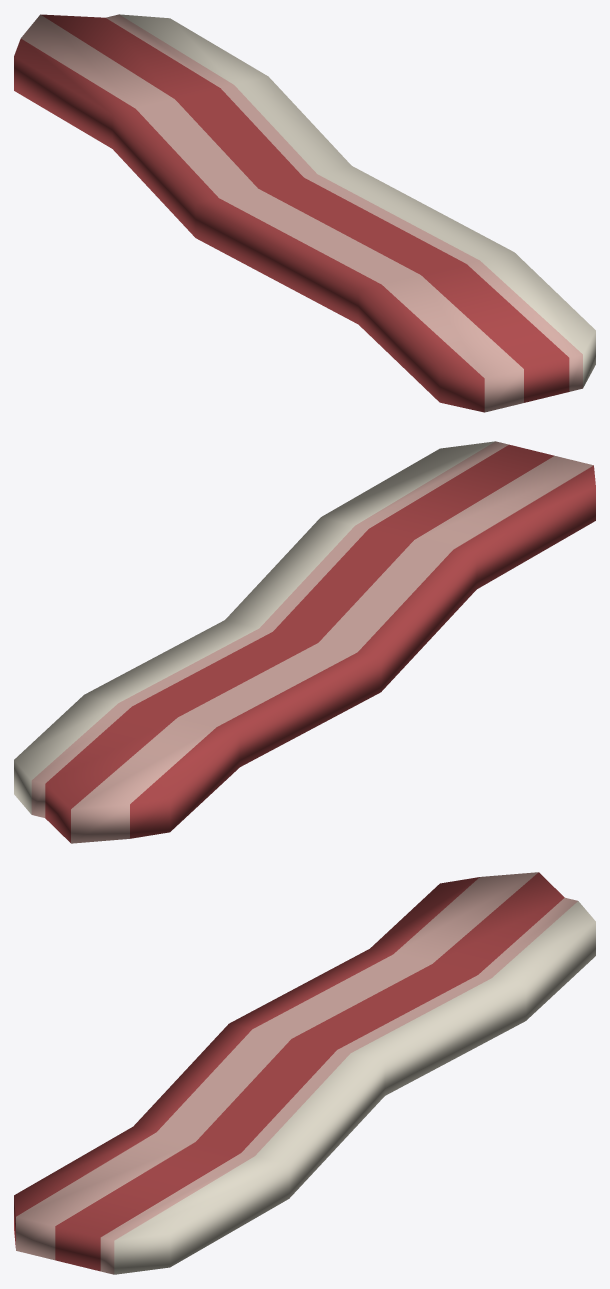
File: Food-Bacon_01.fbx
The picture shows the model from 3 angles, top to bottom: view 1: azimuth 30°, elevation 25°; view 2: azimuth 150°, elevation 25°; view 3: azimuth 330°, elevation 25°; orthographic projection.
Visible parts, largest first — view 1: Food-Bacon_01; view 2: Food-Bacon_01; view 3: Food-Bacon_01.
Part boxes in pixels (x1,y1,x2,y2): Food-Bacon_01: (14,14,595,412); Food-Bacon_01: (14,441,595,843); Food-Bacon_01: (14,872,595,1274).
Bounding box in the file's own units: 0.0488 × 0.00847 × 0.2157.
